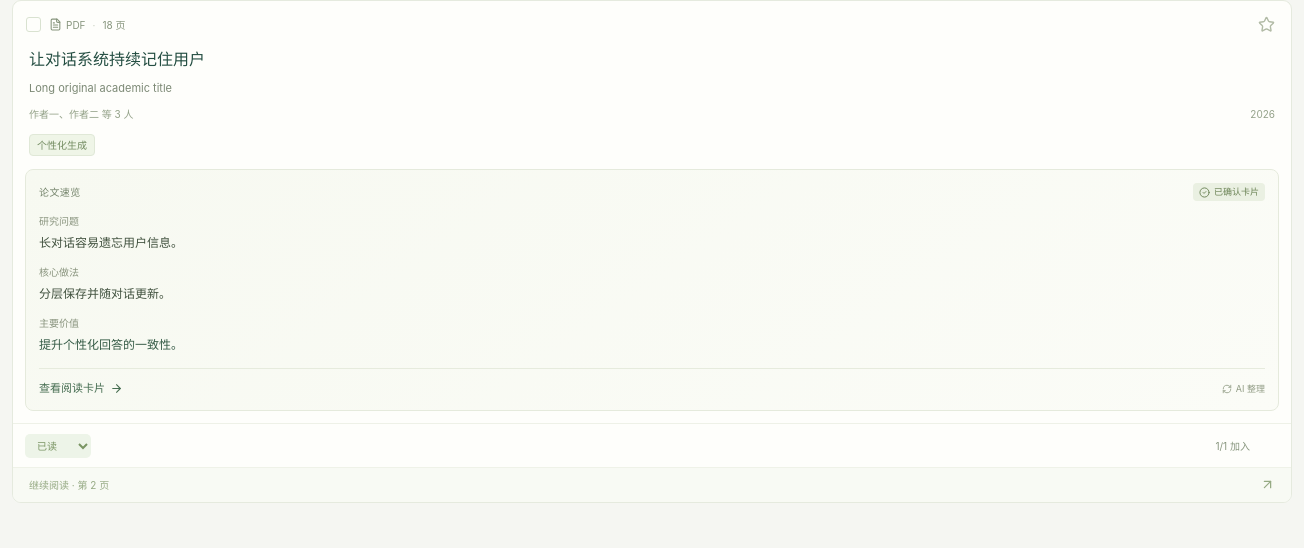
Test: 晚到的旧任务列表不会覆盖刚提交的整理任务
Click the button with aria-label "重新整理简明速览" at (1243, 389), box [1222, 380, 1265, 398]
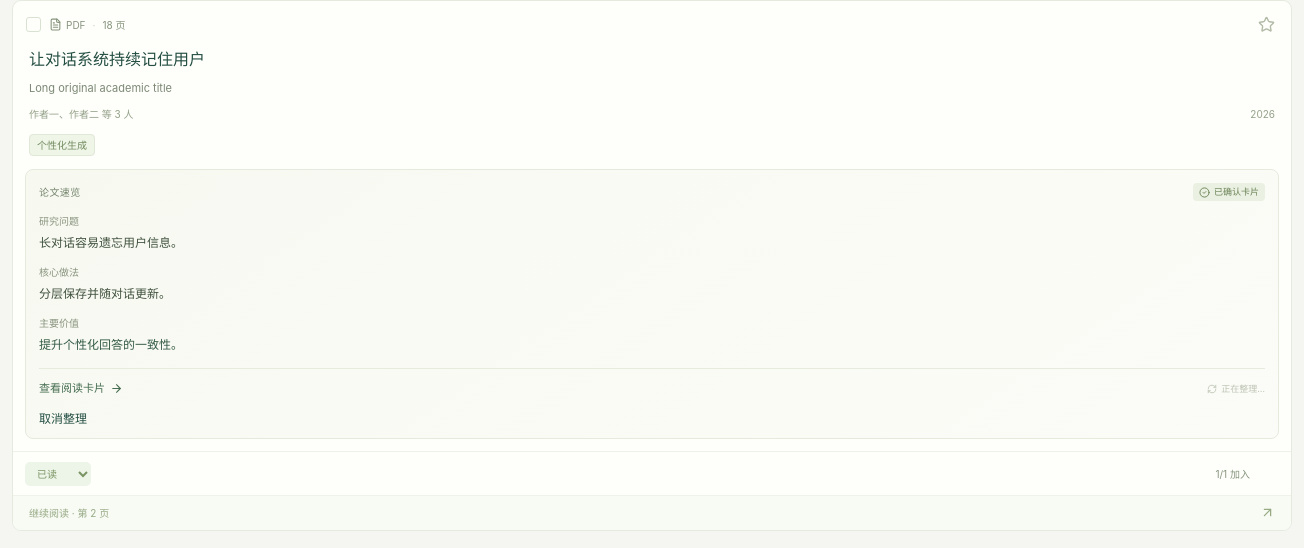
Check: the button with aria-label "重新整理简明速览" is disabled, box [1207, 380, 1265, 398]
Check: the button "取消整理" is shown, box [39, 409, 87, 428]
